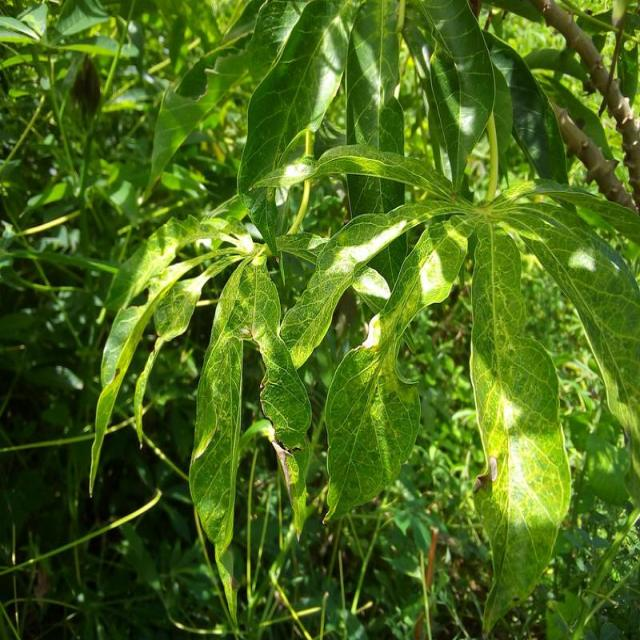cassava leaf: (87, 0, 638, 635), (468, 217, 572, 634)
